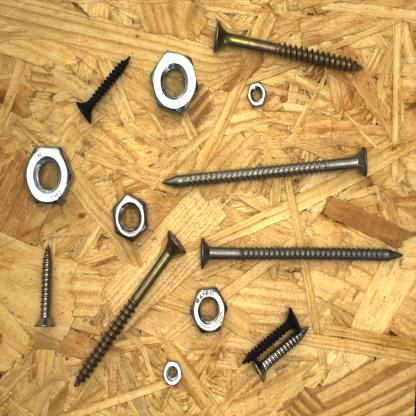screw: (72, 227, 189, 391), (210, 16, 366, 77), (161, 145, 371, 190), (197, 232, 406, 274), (72, 52, 132, 127), (239, 304, 305, 368), (252, 324, 312, 384), (32, 240, 59, 330)
